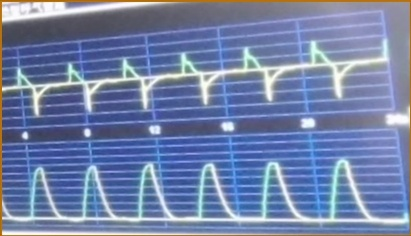Normal Flow: (4, 38, 390, 115)
Normal Volume: (3, 157, 407, 228)
